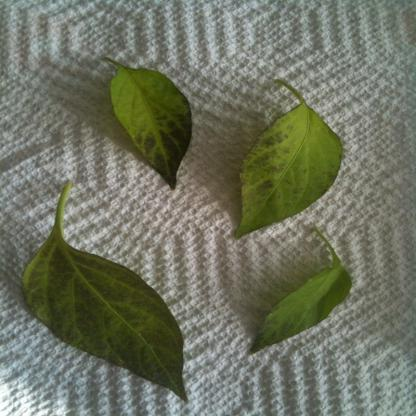bell pepper leaf: (21, 230, 197, 403), (237, 94, 344, 236), (104, 67, 197, 190), (254, 264, 357, 358)
